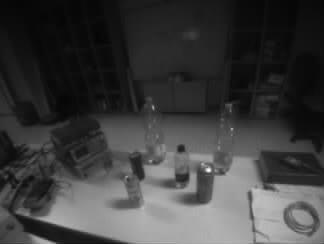Bottle: (214, 102, 233, 172), (144, 98, 164, 161), (174, 145, 188, 185)
Tin can: (197, 162, 212, 201), (126, 177, 144, 207), (129, 152, 144, 181)
